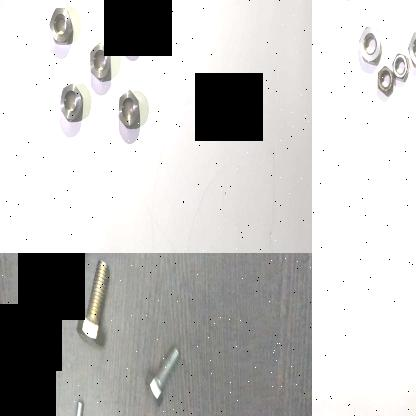Bolts: (74, 258, 115, 352), (144, 334, 182, 414), (61, 395, 93, 416)
NUTS: (47, 1, 74, 52), (57, 80, 83, 128), (86, 38, 112, 84), (356, 22, 383, 64), (115, 86, 140, 130), (118, 7, 142, 50), (388, 51, 410, 84), (375, 64, 393, 99), (405, 28, 416, 76)
